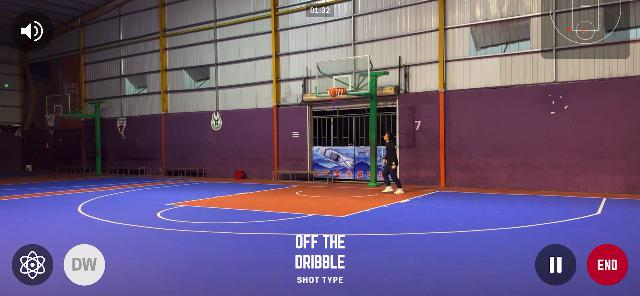basket: (326, 87, 346, 105)
goal: (328, 89, 338, 97)
